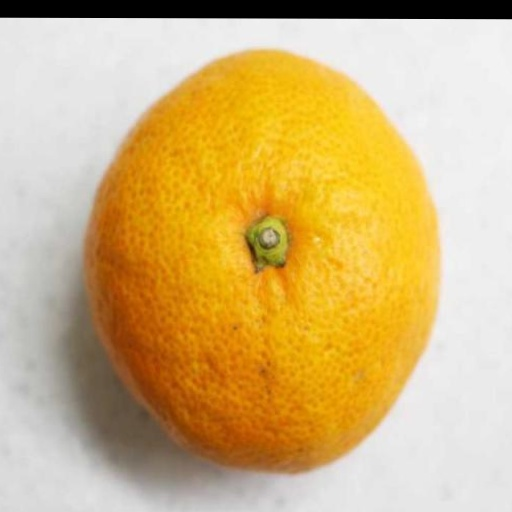fruit: (85, 51, 439, 471)
